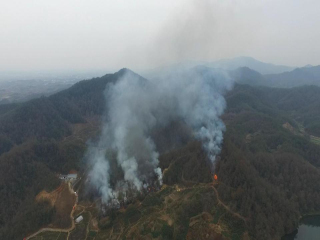smoke: (83, 5, 238, 207)
